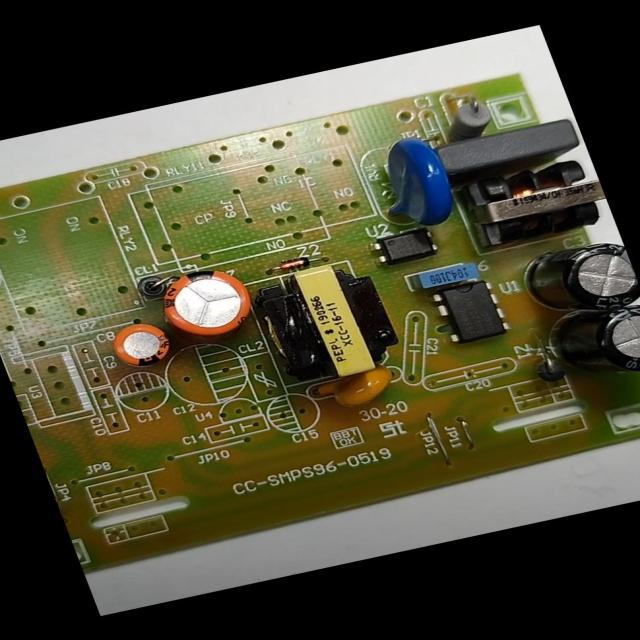Cap1: (149, 259, 267, 343)
Cap2: (105, 316, 179, 373)
Cap3: (511, 235, 639, 327)
Cap4: (541, 302, 639, 389)
MOSFET: (428, 275, 514, 347)
Mov: (360, 130, 465, 236)
Resistor: (430, 96, 504, 145)
Transformer: (260, 252, 412, 388), (462, 154, 614, 248)
